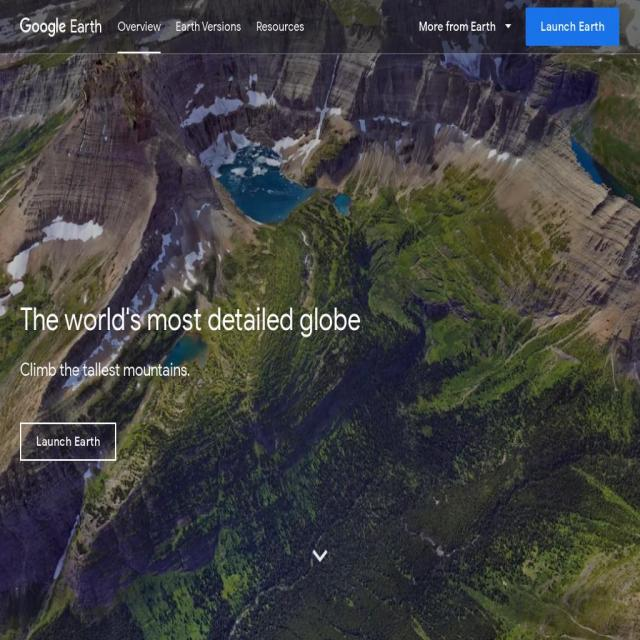navigation-links: (112, 8, 316, 58)
options: (418, 8, 514, 44)
